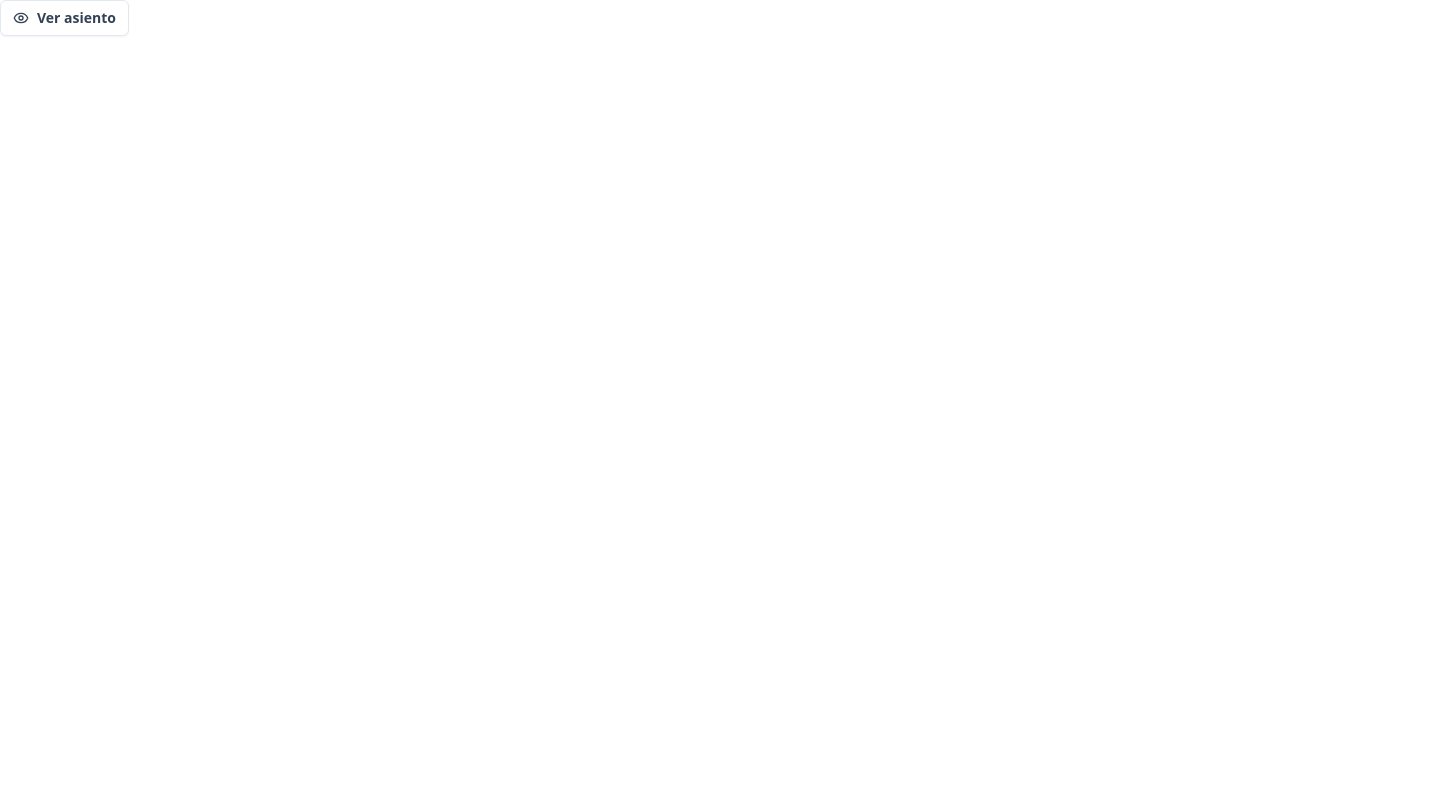
Test: FacturaAsientoViewer › mantiene el guion cuando el historico de la cuenta es ambiguo
Click the button "Ver asiento".
click(64, 18)  # box [0,0,129,36]
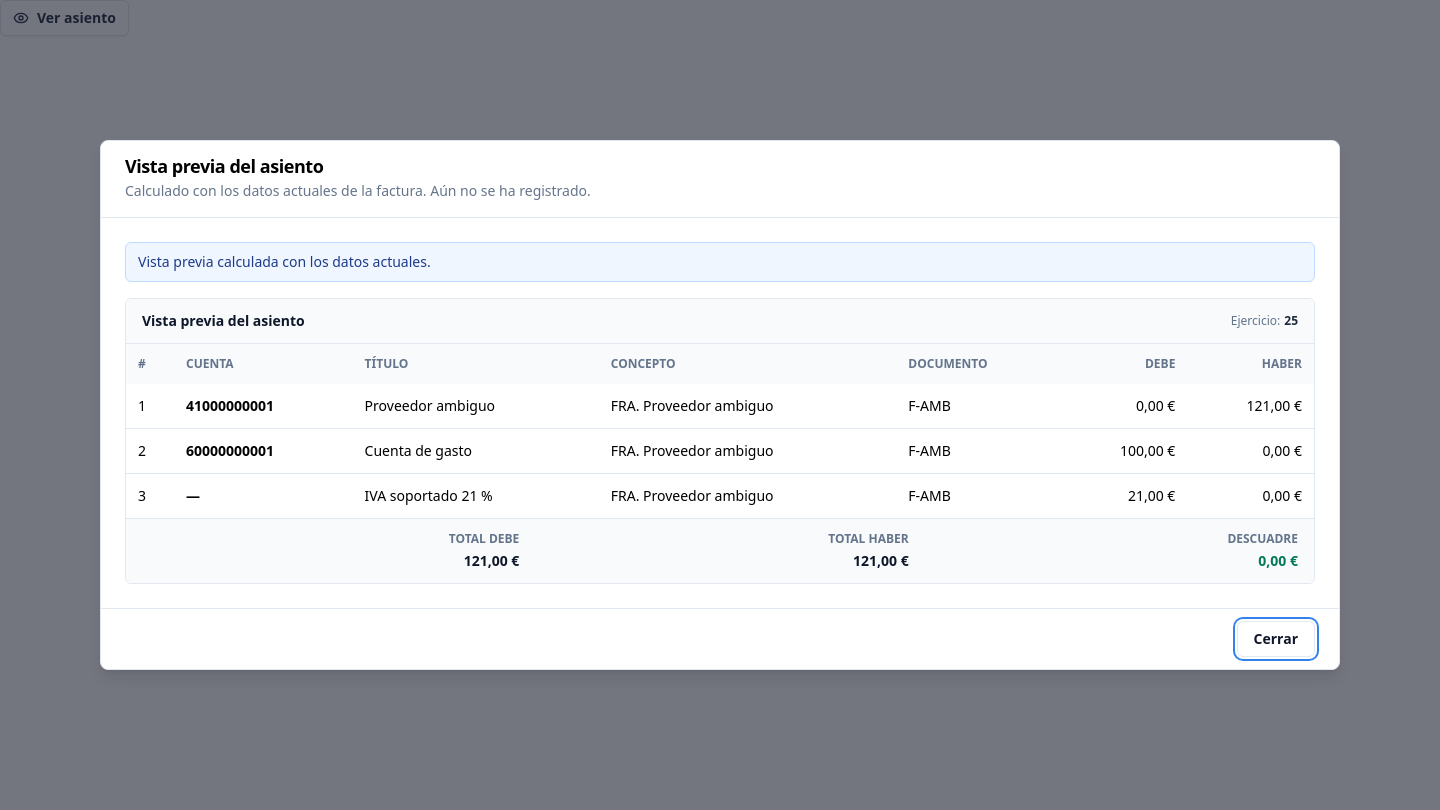
Expected: the text "IVA soportado 21 %" is shown, [365,486,493,505]
Expected: the cell "—" is shown, [174,474,353,518]
